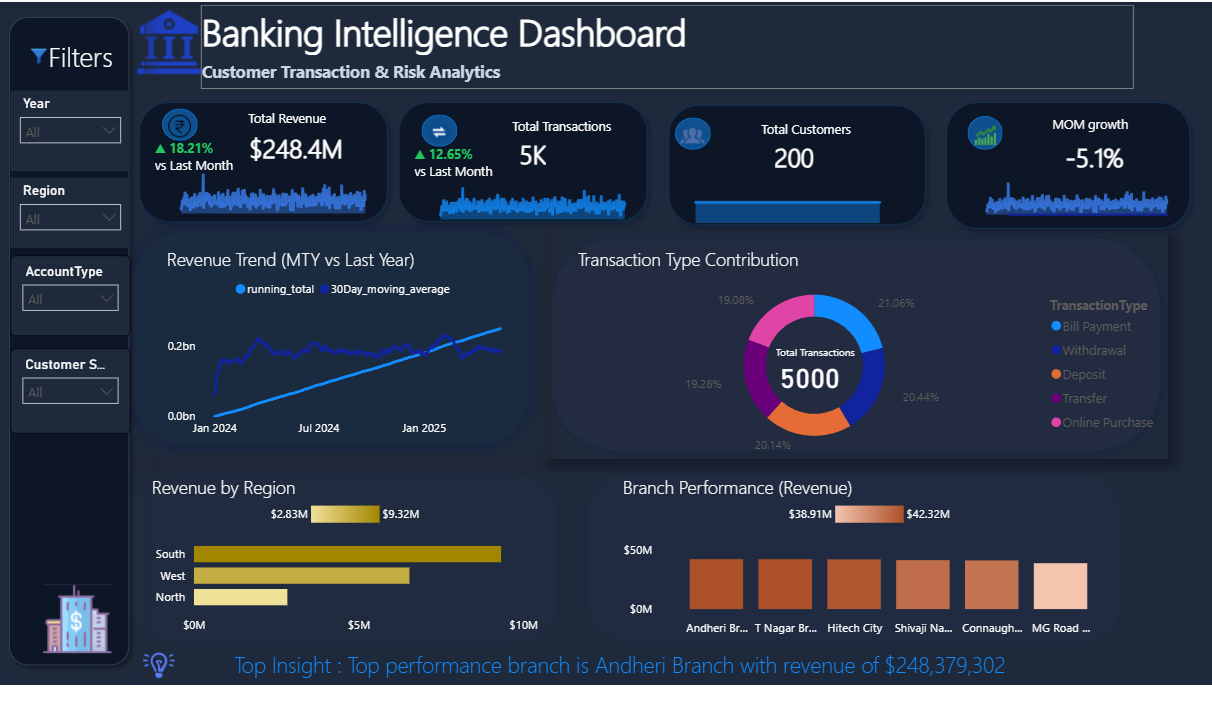

Layout of this report page (visuals, bound fields, positions):
{"tool":"powerbi","page":{"name":"bussiness overview","canvas":[1280,720],"ordinal":0},"visuals":[{"type":"shape","box":[0,0,158.4,713],"z":0,"group":"g5"},{"type":"shape","box":[144,96,279.2,144.2],"z":0,"group":"g4"},{"type":"group","id":"g1","title":"total_revenue_KPI","box":[416,96,272,160],"z":0,"group":"g6"},{"type":"shape","box":[416,96,279.5,143.8],"z":0,"group":"g1"},{"type":"shape","box":[992,96,274.3,151.1],"z":0,"group":"g3"},{"type":"shape","box":[699.5,99.8,288,144],"z":0,"group":"g2"},{"type":"shape","box":[624,496,560,176],"z":0},{"type":"card","fields":{"Values":["measure table.key_insight_text"]},"box":[64,672,1184,48],"z":0,"group":"g7"},{"type":"actionButton","box":[32.8,29.2,97.4,53.2],"z":1000,"group":"g5"},{"type":"group","id":"g2","title":"total_customer_KPI","box":[699.5,99.8,288,144],"z":1000,"group":"g6"},{"type":"shape","box":[177,111.2,37.7,33.8],"z":1000,"group":"g4"},{"type":"shape","box":[448.4,117.8,37.7,33.8],"z":1000,"group":"g1"},{"type":"shape","box":[1023.8,118.9,37,35.5],"z":1000,"group":"g3"},{"type":"shape","box":[715.9,121.6,37.7,33.8],"z":1000,"group":"g2"},{"type":"shape","box":[144,496,448,176],"z":1000},{"type":"actionButton","box":[152.4,675.1,1067.6,40.6],"z":1000,"group":"g7"},{"type":"slicer","fields":{"Values":["Calendar.Year"]},"box":[17.3,92.8,126,84.4],"z":2000,"group":"g5"},{"type":"group","id":"g3","title":"mom_growth_KPI","box":[992,96,274.3,151.1],"z":2000,"group":"g6"},{"type":"actionButton","box":[178.5,113.2,35.1,33.8],"z":2000,"group":"g4"},{"type":"actionButton","box":[449.9,119.8,35.1,33.8],"z":2000,"group":"g1"},{"type":"actionButton","box":[1025.3,121,34.4,35.5],"z":2000,"group":"g3"},{"type":"actionButton","box":[717.4,123.6,35.1,33.8],"z":2000,"group":"g2"},{"type":"shape","box":[576,240,656,240],"z":2000},{"type":"group","id":"g4","title":"total_revenue_KPI","box":[144,96,279.2,145.3],"z":3000,"group":"g6"},{"type":"textbox","box":[258.9,107.8,116.9,31.2],"z":3000,"group":"g4"},{"type":"textbox","box":[1103.9,113.6,136.8,76.5],"z":3000,"group":"g3"},{"type":"textbox","box":[535.8,114.5,133.8,67.6],"z":3000,"group":"g1"},{"type":"textbox","box":[797.8,118.2,116.9,31.2],"z":3000,"group":"g2"},{"type":"slicer","fields":{"Values":["Branches.Region"]},"box":[17.3,183.8,126,74],"z":3000,"group":"g5"},{"type":"shape","box":[128,224,448,256],"z":3000},{"type":"shape","title":"Banking Intelligence Dashboard","box":[216.9,2.6,979.2,88.3],"z":4000},{"type":"cardVisual","fields":{"Data":["measure table.total_revenue"]},"box":[240,112,160,80],"z":4000,"group":"g4"},{"type":"cardVisual","fields":{"Data":["measure table.total_transactions"]},"box":[523.8,123.5,139,71.4],"z":4000,"group":"g1"},{"type":"cardVisual","fields":{"Data":["measure table.mom_growth"]},"box":[1097.8,124.9,136.4,75.1],"z":4000,"group":"g3"},{"type":"cardVisual","fields":{"Data":["measure table.total_customer"]},"box":[791.3,127.3,139,71.4],"z":4000,"group":"g2"},{"type":"slicer","fields":{"Values":["Accounts.AccountType"]},"box":[17.3,266.9,126,84.4],"z":4000,"group":"g5"},{"type":"textbox","box":[164.9,138.7,131.2,102.6],"z":5000,"group":"g4"},{"type":"textbox","box":[436.3,145.3,131.2,102.6],"z":5000,"group":"g1"},{"type":"areaChart","fields":{"Y":["measure table.total_customer"],"Category":["Calendar.Year"]},"box":[721.2,175.4,223.4,62.3],"z":5000,"group":"g2"},{"type":"areaChart","fields":{"Y":["measure table.total_revenue","measure table.mom_growth"],"Category":["Calendar.Date.Variation.Date Hierarchy.Year"]},"box":[1029,175.4,219.2,65.5],"z":5000,"group":"g3"},{"type":"donutChart","title":"Transaction Type Contribution","fields":{"Category":["Transactions.TransactionType"],"Y":["measure table.total_transactions"]},"box":[608,256,624,224],"z":5000},{"type":"slicer","fields":{"Values":["Customers.Customer Segment"]},"box":[17.3,363.6,126,89.6],"z":5000,"group":"g5"},{"type":"actionButton","box":[144.2,2.6,103.9,77.9],"z":6000},{"type":"areaChart","fields":{"Y":["measure table.total_revenue"],"Category":["Calendar.Date.Variation.Date Hierarchy.Year"]},"box":[182.3,164.9,223.4,62.3],"z":6000,"group":"g4"},{"type":"areaChart","fields":{"Category":["Calendar.Date.Variation.Date Hierarchy.Year"],"Y":["measure table.total_transactions"]},"box":[453.7,171.6,223.4,62.3],"z":6000,"group":"g1"},{"type":"card","fields":{"Values":["measure table.total_transactions"]},"box":[816,368,80,48],"z":7000},{"type":"group","id":"g5","title":"filter ","box":[0,0,160,720],"z":8000},{"type":"textbox","box":[816,352,112,64],"z":9000},{"type":"lineChart","title":"Revenue Trend (MTY vs Last Year)","fields":{"Category":["Calendar.Date"],"Y":["measure table.running_total"],"Y2":["measure table.30Day_moving_average"]},"box":[176,256,384,208],"z":10000},{"type":"barChart","title":"Revenue by Region","fields":{"Y":["measure table.total_revenue"],"Category":["Branches.Region"]},"box":[160,496,416,176],"z":11000},{"type":"clusteredColumnChart","title":"Branch Performance (Revenue)","fields":{"Category":["Branches.BranchName"],"Y":["measure table.total_revenue"]},"box":[656,496,528,176],"z":12000},{"type":"group","id":"g6","title":"kpi","box":[144,96,1122.3,160],"z":13000},{"type":"group","id":"g7","title":"Group 1","box":[64,672,1184,48],"z":14000},{"type":"actionButton","box":[32,608,96,80],"z":14001}]}

Visuals, with their boxes on the page's 1280x720 design canvas (x1, y1, x2, y2). These are canvas units, not pixel positions in the 1212x720 screenshot, which may show the page scaled, cropped or inside an application window:
shape: l=0, t=0, r=158, b=713
shape: l=144, t=96, r=423, b=240
"total_revenue_KPI" group: l=416, t=96, r=688, b=256
shape: l=416, t=96, r=696, b=240
shape: l=992, t=96, r=1266, b=247
shape: l=700, t=100, r=988, b=244
shape: l=624, t=496, r=1184, b=672
card - measure table.key_insight_text: l=64, t=672, r=1248, b=720
actionButton: l=33, t=29, r=130, b=82
"total_customer_KPI" group: l=700, t=100, r=988, b=244
shape: l=177, t=111, r=215, b=145
shape: l=448, t=118, r=486, b=152
shape: l=1024, t=119, r=1061, b=154
shape: l=716, t=122, r=754, b=155
shape: l=144, t=496, r=592, b=672
actionButton: l=152, t=675, r=1220, b=716
slicer - Calendar.Year: l=17, t=93, r=143, b=177
"mom_growth_KPI" group: l=992, t=96, r=1266, b=247
actionButton: l=178, t=113, r=214, b=147
actionButton: l=450, t=120, r=485, b=154
actionButton: l=1025, t=121, r=1060, b=156
actionButton: l=717, t=124, r=752, b=157
shape: l=576, t=240, r=1232, b=480
"total_revenue_KPI" group: l=144, t=96, r=423, b=241
textbox: l=259, t=108, r=376, b=139
textbox: l=1104, t=114, r=1241, b=190
textbox: l=536, t=114, r=670, b=182
textbox: l=798, t=118, r=915, b=149
slicer - Branches.Region: l=17, t=184, r=143, b=258
shape: l=128, t=224, r=576, b=480
"Banking Intelligence Dashboard" shape: l=217, t=3, r=1196, b=91
cardVisual - measure table.total_revenue: l=240, t=112, r=400, b=192
cardVisual - measure table.total_transactions: l=524, t=124, r=663, b=195
cardVisual - measure table.mom_growth: l=1098, t=125, r=1234, b=200
cardVisual - measure table.total_customer: l=791, t=127, r=930, b=199
slicer - Accounts.AccountType: l=17, t=267, r=143, b=351
textbox: l=165, t=139, r=296, b=241
textbox: l=436, t=145, r=568, b=248
areaChart - measure table.total_customer x Calendar.Year: l=721, t=175, r=945, b=238
areaChart - measure table.total_revenue x measure table.mom_growth: l=1029, t=175, r=1248, b=241
"Transaction Type Contribution" donutChart: l=608, t=256, r=1232, b=480
slicer - Customers.Customer Segment: l=17, t=364, r=143, b=453
actionButton: l=144, t=3, r=248, b=80
areaChart - measure table.total_revenue x Calendar.Date.Variation.Date Hierarchy.Year: l=182, t=165, r=406, b=227
areaChart - Calendar.Date.Variation.Date Hierarchy.Year x measure table.total_transactions: l=454, t=172, r=677, b=234
card - measure table.total_transactions: l=816, t=368, r=896, b=416
"filter " group: l=0, t=0, r=160, b=720
textbox: l=816, t=352, r=928, b=416
"Revenue Trend (MTY vs Last Year)" lineChart: l=176, t=256, r=560, b=464
"Revenue by Region" barChart: l=160, t=496, r=576, b=672
"Branch Performance (Revenue)" clusteredColumnChart: l=656, t=496, r=1184, b=672
"kpi" group: l=144, t=96, r=1266, b=256
"Group 1" group: l=64, t=672, r=1248, b=720
actionButton: l=32, t=608, r=128, b=688
